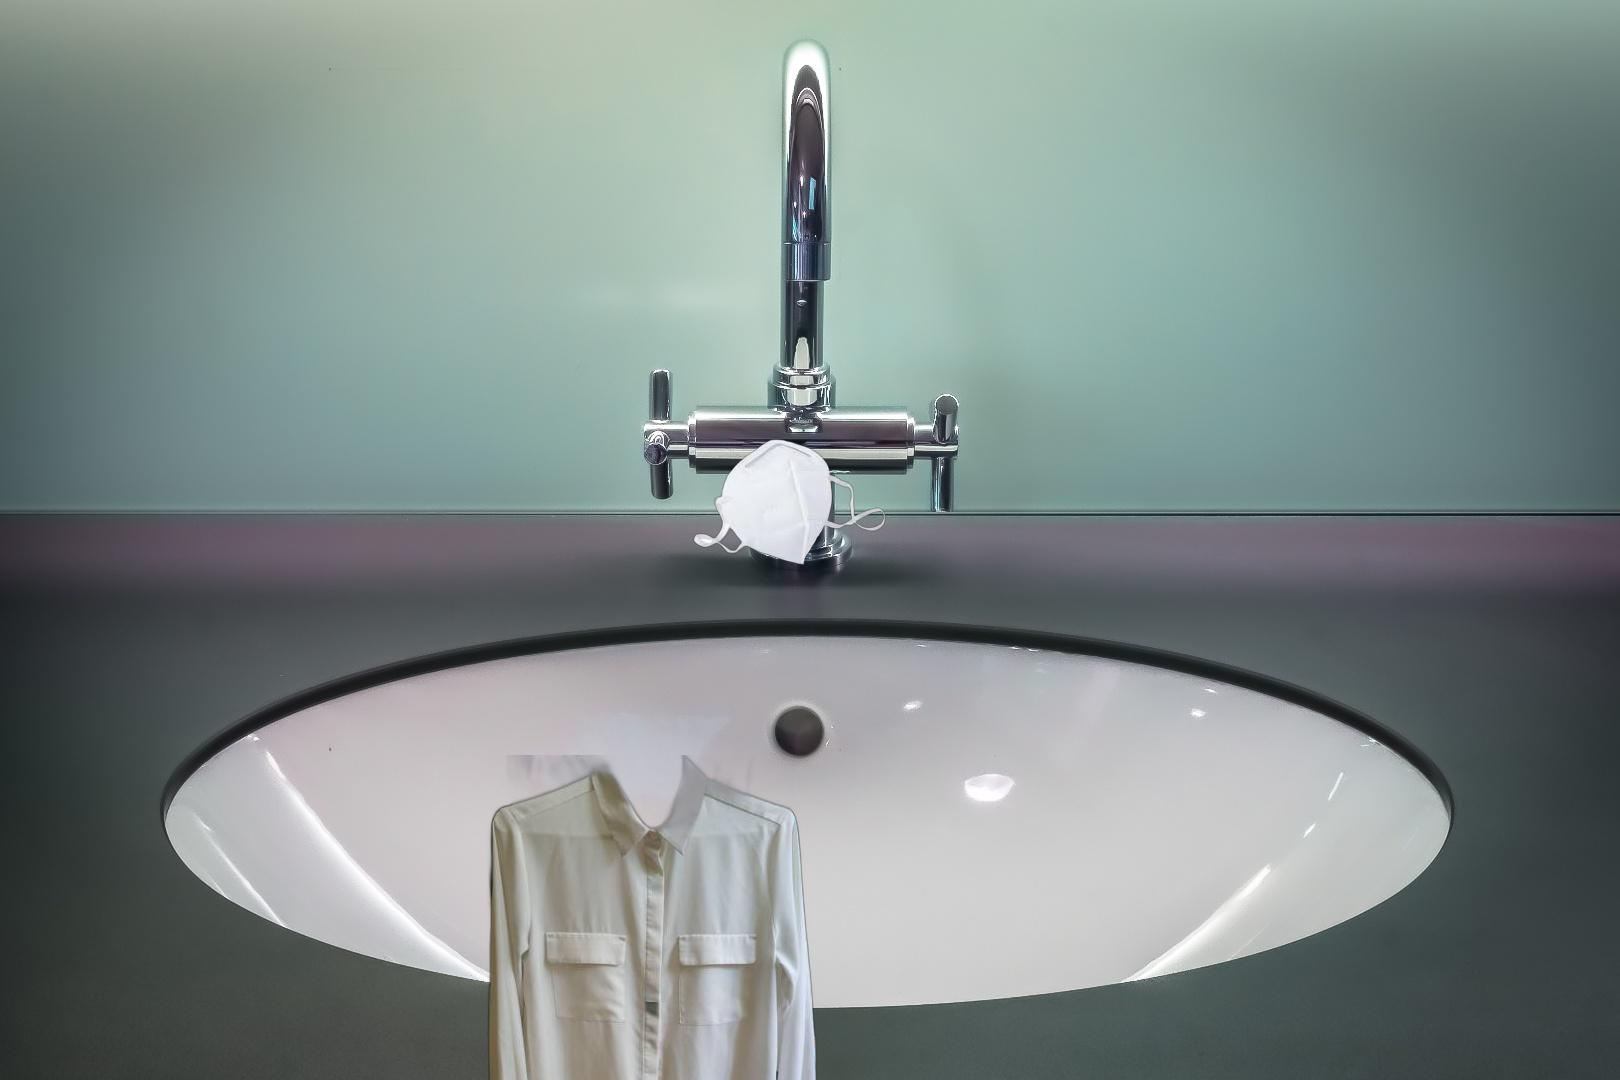clothes: (485, 755, 820, 1080)
glass: (329, 67, 841, 751)
trash: (691, 436, 888, 567)
